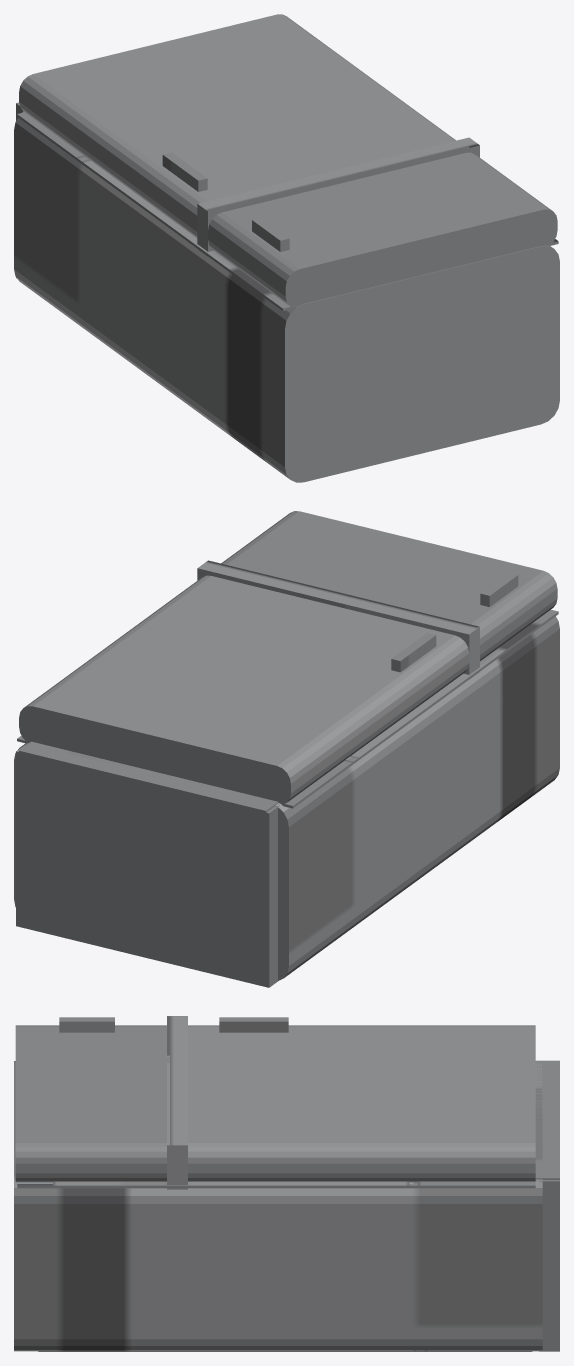
The picture shows the model from 3 angles, top to bottom: view 1: azimuth 30°, elevation 25°; view 2: azimuth 150°, elevation 25°; view 3: azimuth 270°, elevation 25°; orthographic projection. The views are drawn at different scales.
Size of the model in its own units: 0.893 by 0.714 by 1.57.
